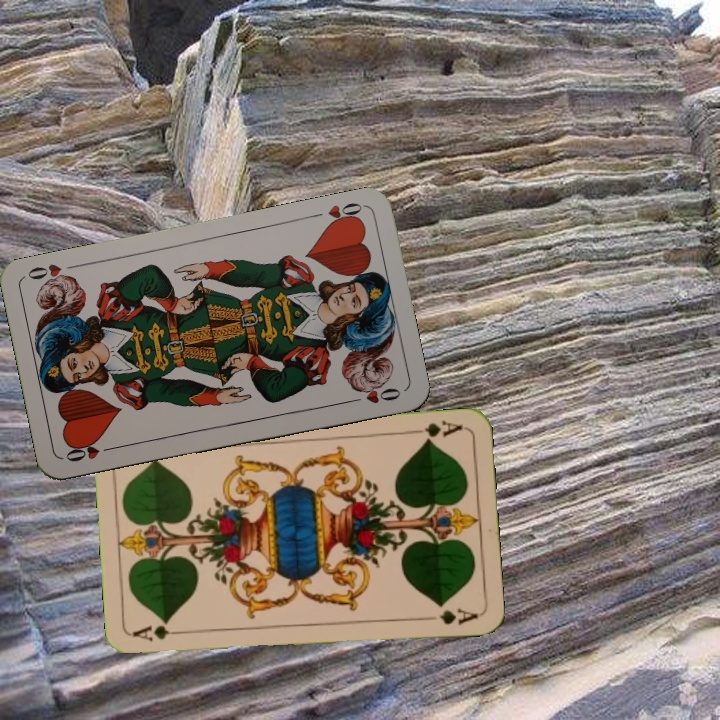GA: (407, 416, 465, 445), (130, 622, 189, 644)
HO: (307, 198, 365, 230), (61, 440, 120, 465)
